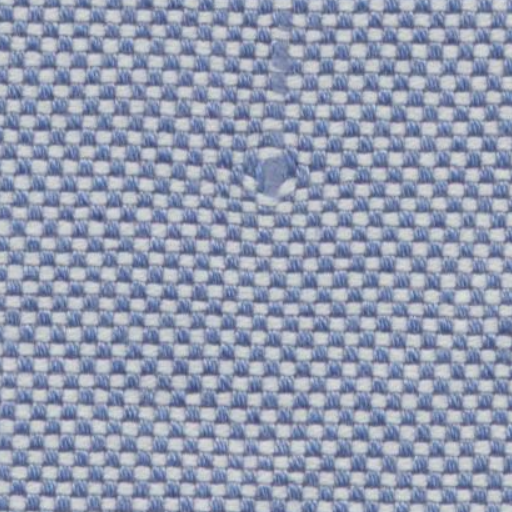PoDong: (208, 142, 340, 218)
